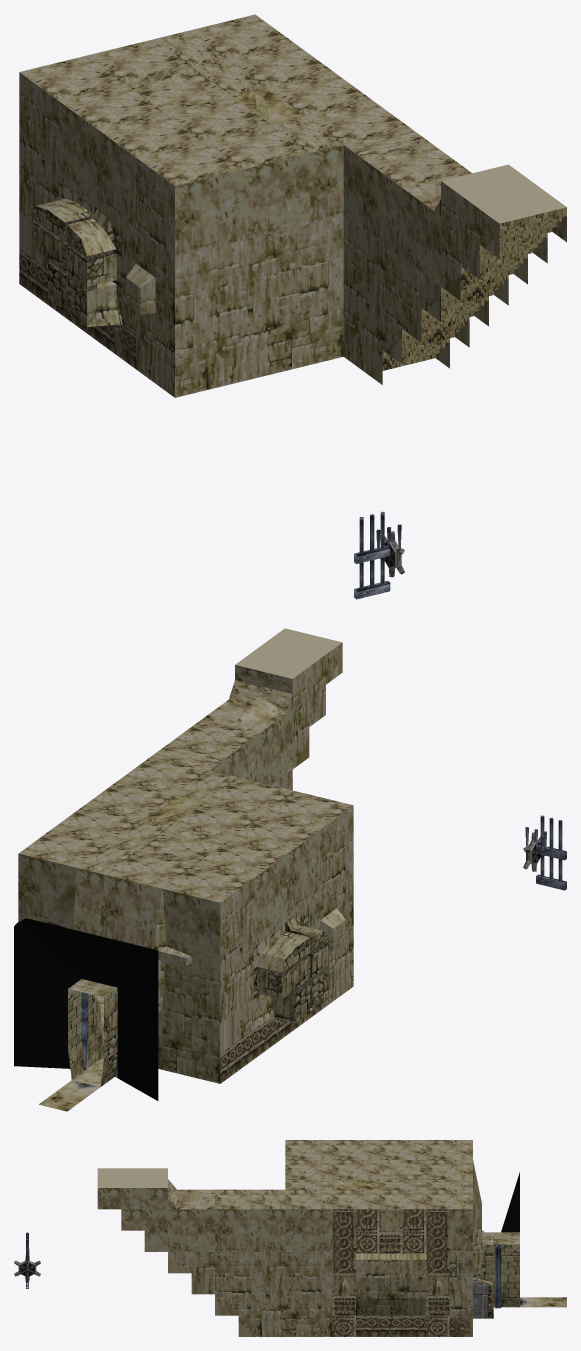
The model's file is MAP023.obj.
The picture shows the model from 3 angles, top to bottom: view 1: azimuth 30°, elevation 25°; view 2: azimuth 150°, elevation 25°; view 3: azimuth 270°, elevation 25°; orthographic projection. The views are drawn at different scales.
Visible parts, largest first — view 1: mesh_46, mesh_33, mesh_30, mesh_34, mesh_32, mesh_31, mesh_12, mesh_37, mesh_71, mesh_38, mesh_72, mesh_66 (+9 smaller); view 2: mesh_46, mesh_76, mesh_21, mesh_34, mesh_18, mesh_38, mesh_37, mesh_24, mesh_30, mesh_31, mesh_72, mesh_66 (+8 smaller); view 3: mesh_26, mesh_46, mesh_27, mesh_28, mesh_24, mesh_29, mesh_72, mesh_18, mesh_23, mesh_76, mesh_47, mesh_11 (+3 smaller).
Part boxes in pixels (x1,y1,x2,y2): mesh_46: (19, 14, 471, 210); mesh_33: (175, 215, 343, 372); mesh_30: (343, 181, 499, 384); mesh_34: (19, 72, 174, 397); mesh_32: (175, 145, 343, 256); mesh_31: (343, 145, 440, 286); mesh_12: (382, 207, 566, 370); mesh_37: (36, 198, 135, 353); mesh_71: (19, 213, 276, 397); mesh_38: (58, 101, 135, 227); mesh_72: (441, 164, 566, 223); mesh_66: (32, 206, 116, 326); mesh_46: (19, 665, 352, 902); mesh_76: (14, 918, 158, 1100); mesh_21: (18, 853, 220, 962); mesh_34: (220, 805, 353, 1028); mesh_18: (18, 868, 220, 1083); mesh_38: (253, 830, 320, 938); mesh_37: (253, 890, 328, 1023); mesh_24: (68, 988, 162, 1086); mesh_30: (271, 642, 342, 790); mesh_31: (210, 709, 292, 784); mesh_72: (235, 628, 342, 678); mesh_66: (282, 937, 328, 1022); mesh_26: (168, 1252, 443, 1336); mesh_46: (168, 1140, 472, 1209); mesh_27: (97, 1188, 472, 1251); mesh_28: (332, 1209, 472, 1336); mesh_24: (478, 1244, 519, 1307); mesh_29: (449, 1252, 472, 1315); mesh_72: (97, 1168, 167, 1187); mesh_18: (473, 1190, 519, 1286); mesh_23: (473, 1257, 493, 1318); mesh_76: (501, 1172, 519, 1232); mesh_47: (332, 1179, 379, 1189); mesh_11: (520, 1297, 566, 1307).
Bounding box in the file's own units: 109 × 102 × 302.
26 materials, 26 textured.
